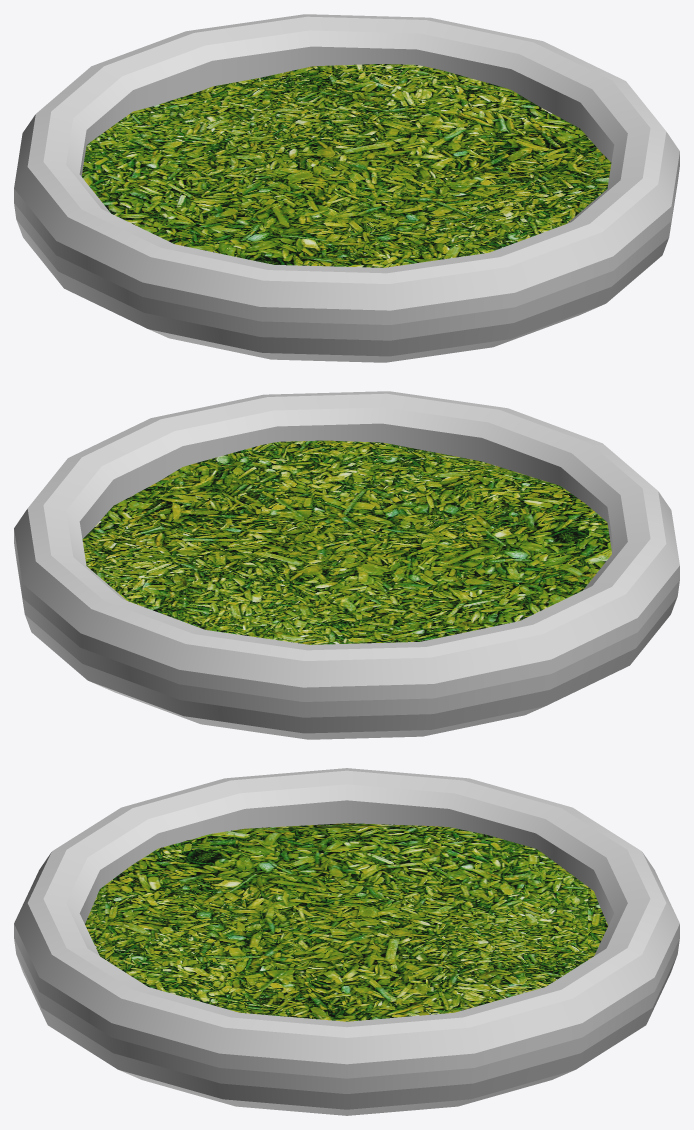
The picture shows the model from 3 angles, top to bottom: view 1: azimuth 30°, elevation 25°; view 2: azimuth 150°, elevation 25°; view 3: azimuth 270°, elevation 25°; orthographic projection.
Visible parts, largest first — view 1: Line001, Circle001; view 2: Line001, Circle001; view 3: Line001, Circle001.
Boxes of the visible parts, box(x1,y1,x2,y2) form: Line001: box(14, 14, 679, 362); Circle001: box(82, 64, 611, 267); Line001: box(14, 391, 679, 739); Circle001: box(82, 440, 611, 644); Line001: box(14, 768, 679, 1115); Circle001: box(85, 823, 608, 1021).
Bounding box in the file's own units: 14.47 × 2.8 × 14.47.
1 material, 1 textured.
